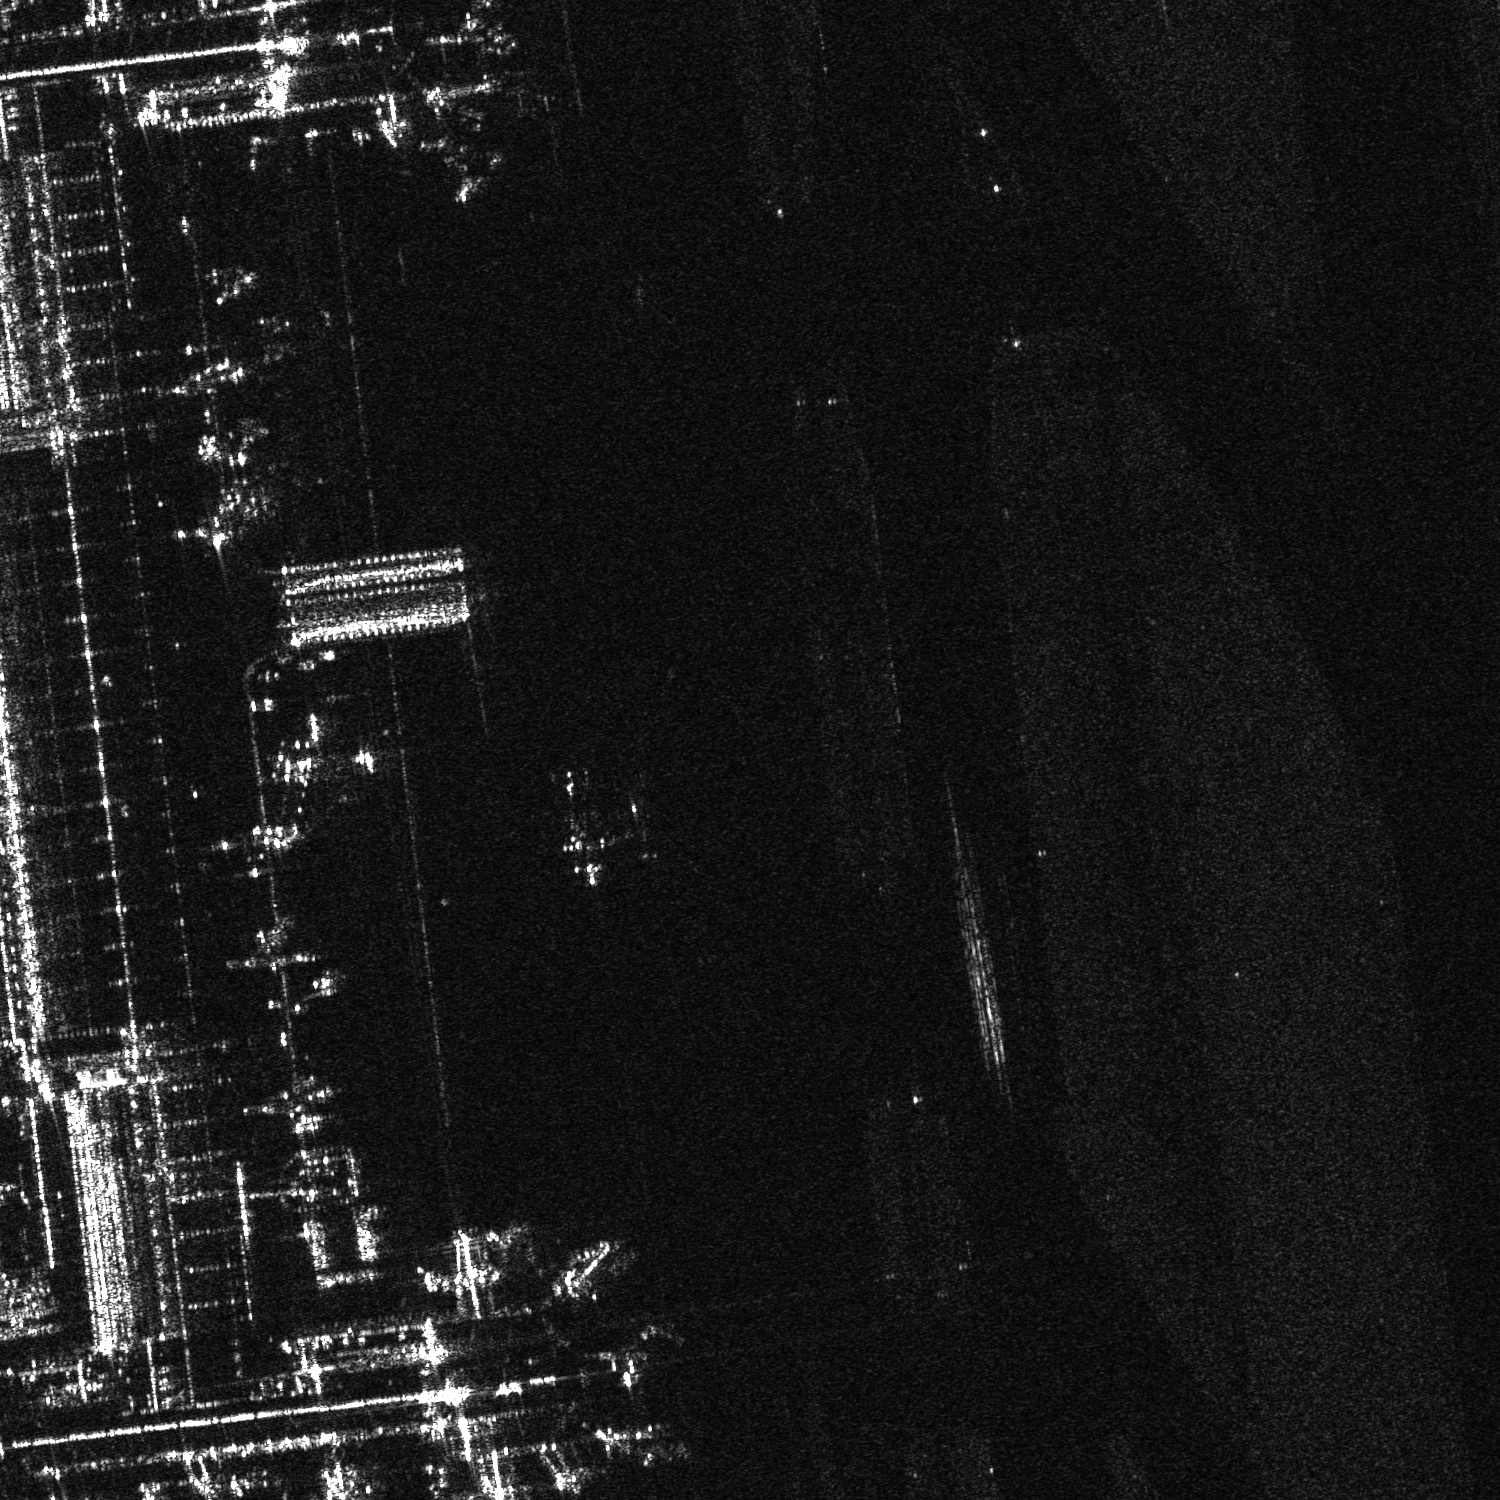Boeing787: (544, 790, 637, 894)
